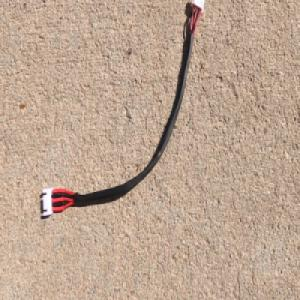Wire: (40, 0, 205, 219)
